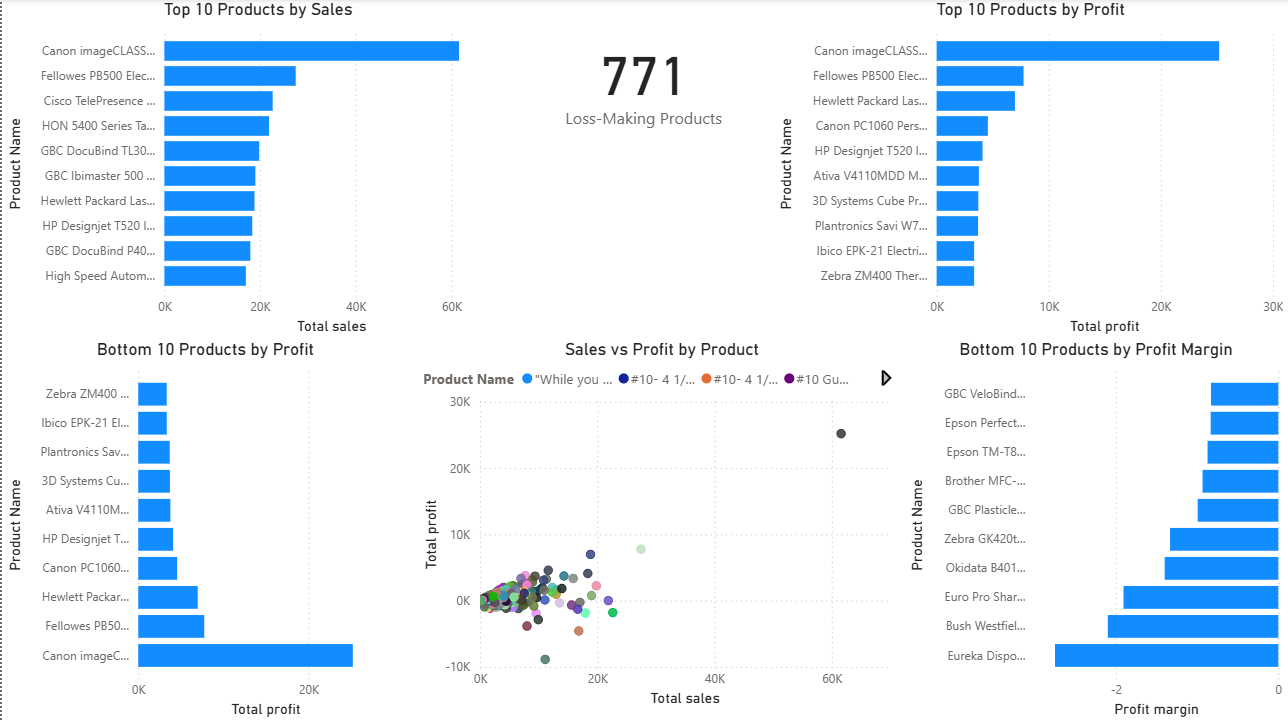

The page's visual inventory and layout, read from the dashboard file:
{"tool":"powerbi","page":{"name":"Product Analysis","canvas":[1280,720],"ordinal":3},"visuals":[{"type":"barChart","title":"Top 10 Products by Sales","fields":{"Category":["samplesuperstore orgnal.Product Name"],"Y":["samplesuperstore orgnal.Total sales"]},"box":[0,0,510,338.8],"z":0},{"type":"barChart","title":"Top 10 Products by Profit","fields":{"Category":["samplesuperstore orgnal.Product Name"],"Y":["samplesuperstore orgnal.Total profit"]},"box":[767.5,0,512.5,338.8],"z":1000},{"type":"scatterChart","title":"Sales vs Profit by Product","fields":{"X":["samplesuperstore orgnal.Total sales"],"Y":["samplesuperstore orgnal.Total profit"],"Series":["samplesuperstore orgnal.Product Name"]},"box":[413.8,338.8,485,370],"z":2000},{"type":"barChart","title":"Bottom 10 Products by Profit Margin","fields":{"Category":["samplesuperstore orgnal.Product Name"],"Y":["samplesuperstore orgnal.Profit margin"]},"box":[898.8,338.8,381.2,381.2],"z":3000},{"type":"card","fields":{"Values":["samplesuperstore orgnal.Loss-Making Products"]},"box":[510,0,257.5,160.5],"z":4000},{"type":"barChart","title":"Bottom 10 Products by Profit","fields":{"Category":["samplesuperstore orgnal.Product Name"],"Y":["samplesuperstore orgnal.Total profit"]},"box":[0,338.8,405,381.2],"z":5000}]}

Visuals, with their boxes in screenshot pixels (x1, y1, x2, y2), scaled from the page's 1280x720 canvas onto the 1288x722 screenshot:
"Top 10 Products by Sales" barChart: bbox=[0, 0, 513, 340]
"Top 10 Products by Profit" barChart: bbox=[772, 0, 1287, 340]
"Sales vs Profit by Product" scatterChart: bbox=[416, 340, 904, 711]
"Bottom 10 Products by Profit Margin" barChart: bbox=[904, 340, 1287, 721]
card - samplesuperstore orgnal.Loss-Making Products: bbox=[513, 0, 772, 161]
"Bottom 10 Products by Profit" barChart: bbox=[0, 340, 408, 721]
